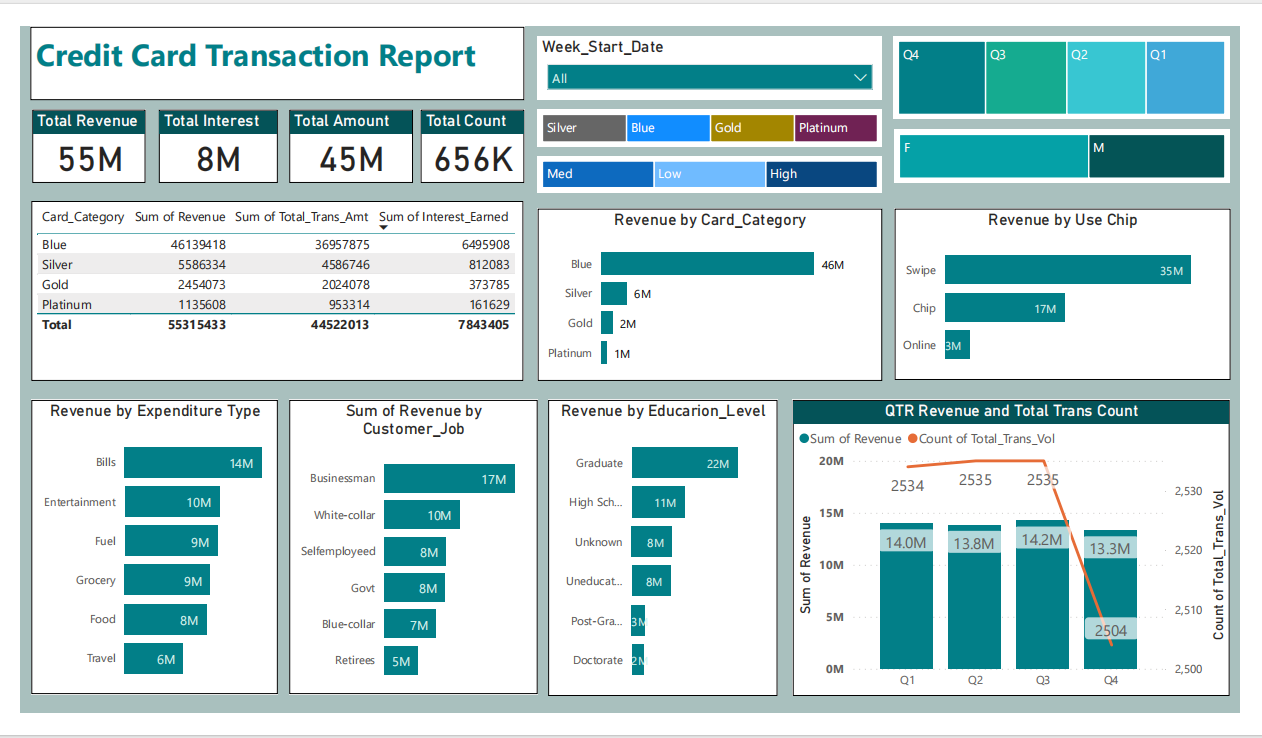

What the dashboard file says about the page in this screenshot:
{"tool":"powerbi","page":{"name":"cc-transaction","canvas":[1280,720],"ordinal":0},"visuals":[{"type":"textbox","box":[9.8,0,519.2,77.3],"z":0},{"type":"lineStackedColumnComboChart","title":"QTR Revenue and Total Trans Count","fields":{"Category":["credit_card.Qtr"],"Y":["Sum(credit_card.Revenue)"],"Y2":["CountNonNull(credit_card.Total_Trans_Vol)"]},"box":[811.4,391.6,459.1,311.8],"z":1000},{"type":"barChart","title":"Revenue by Expenditure Type","fields":{"Y":["Sum(credit_card.Revenue)"],"Category":["credit_card.Exp Type"]},"box":[11,391.6,259,309.3],"z":2000},{"type":"barChart","title":"Revenue by Educarion_Level","fields":{"Y":["Sum(credit_card.Revenue)"],"Category":["customer.Education_Level"]},"box":[553.6,391.6,241.8,311.8],"z":3000},{"type":"barChart","title":"Revenue by Card_Category","fields":{"Y":["Sum(credit_card.Revenue)"],"Category":["credit_card.Card_Category"]},"box":[542.5,191.5,362.1,180.4],"z":4000},{"type":"barChart","title":"Revenue by Use Chip","fields":{"Y":["Sum(credit_card.Revenue)"],"Category":["credit_card.Use Chip"]},"box":[918.5,191,352.6,180.4],"z":5000},{"type":"tableEx","fields":{"Values":["credit_card.Card_Category","Sum(credit_card.Revenue)","Sum(credit_card.Total_Trans_Amt)","Sum(credit_card.Interest_Earned)"]},"box":[11,182.9,516.8,189],"z":6000},{"type":"barChart","fields":{"Y":["Sum(credit_card.Revenue)"],"Category":["customer.Customer_Job"]},"box":[282.3,391.6,260.2,309.3],"z":7000},{"type":"card","title":"Total Revenue","fields":{"Values":["Sum(credit_card.Revenue)"]},"box":[12.3,87.2,119.1,77.3],"z":8000},{"type":"card","title":"Total Amount","fields":{"Values":["Sum(credit_card.Total_Trans_Amt)"]},"box":[282.3,87.2,130.1,77.3],"z":9000},{"type":"card","title":"Total Interest","fields":{"Values":["Sum(credit_card.Interest_Earned)"]},"box":[144.8,87.2,125.2,77.3],"z":10000},{"type":"card","title":"Total Count","fields":{"Values":["Sum(credit_card.Total_Trans_Vol)"]},"box":[419.8,87.2,109.2,77.3],"z":11000},{"type":"slicer","title":"Week_Start_Date","fields":{"Values":["credit_card.fixed_date"]},"box":[542.5,9.8,362.1,67.5],"z":12000},{"type":"treemap","fields":{"Group":["credit_card.Qtr"],"Values":["Sum(credit_card.Client_Num)"]},"box":[916.9,9.8,353.5,87.2],"z":13000},{"type":"treemap","fields":{"Group":["customer.Gender"],"Values":["Sum(credit_card.Client_Num)"]},"box":[918.1,108,352.3,56.5],"z":14000},{"type":"treemap","fields":{"Group":["credit_card.Card_Category"],"Values":["Avg(credit_card.Client_Num)"]},"box":[542.5,87.2,362.1,39.3],"z":15000},{"type":"treemap","fields":{"Group":["customer.IncomeGroup"],"Values":["Avg(credit_card.Client_Num)"]},"box":[542.5,136.2,362.1,38.1],"z":16000}]}

Visuals, with their boxes in screenshot pixels (x1, y1, x2, y2):
textbox: 35 33 522 105
"QTR Revenue and Total Trans Count" lineStackedColumnComboChart: 787 400 1218 693
"Revenue by Expenditure Type" barChart: 37 400 280 690
"Revenue by Educarion_Level" barChart: 545 400 772 693
"Revenue by Card_Category" barChart: 535 212 875 382
"Revenue by Use Chip" barChart: 888 212 1218 381
tableEx - credit_card.Card_Category x Sum(credit_card.Revenue): 37 204 521 382
barChart - Sum(credit_card.Revenue) x customer.Customer_Job: 291 400 535 690
"Total Revenue" card: 38 115 150 187
"Total Amount" card: 291 115 413 187
"Total Interest" card: 162 115 280 187
"Total Count" card: 420 115 522 187
"Week_Start_Date" slicer: 535 42 875 105
treemap - credit_card.Qtr x Sum(credit_card.Client_Num): 886 42 1218 124
treemap - customer.Gender x Sum(credit_card.Client_Num): 887 134 1218 187
treemap - credit_card.Card_Category x Avg(credit_card.Client_Num): 535 115 875 151
treemap - customer.IncomeGroup x Avg(credit_card.Client_Num): 535 161 875 196
